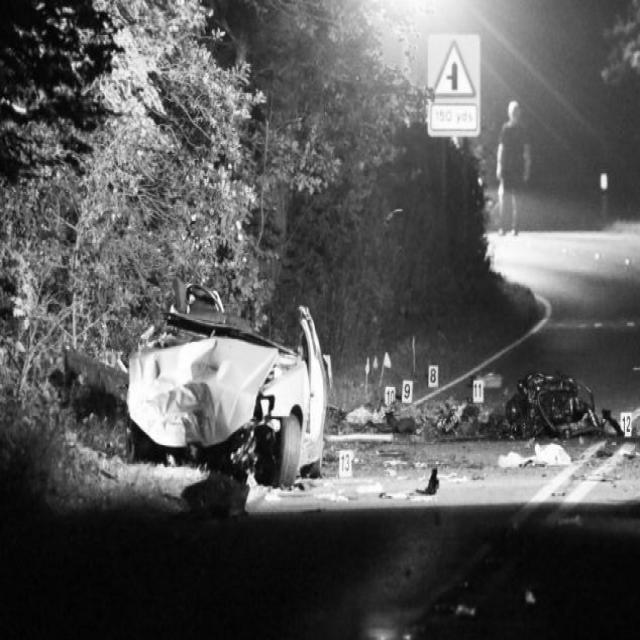crush: (129, 275, 319, 482)
